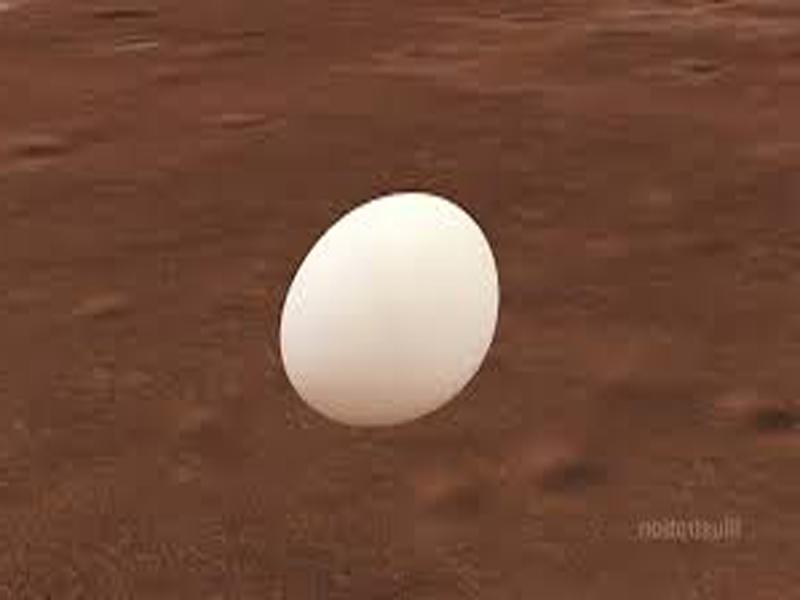Eggs: (277, 193, 499, 425)
